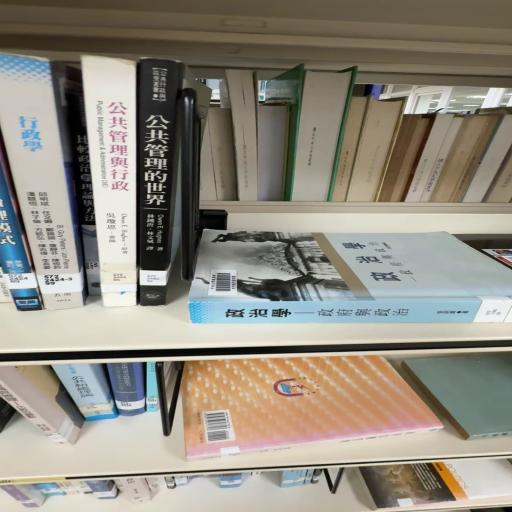flat: (190, 231, 512, 326), (182, 357, 444, 461)
